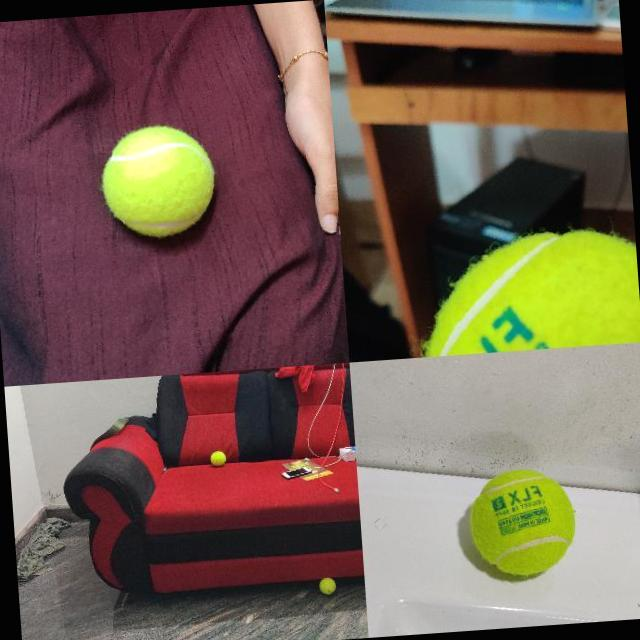Tennis Ball: (417, 225, 640, 356), (100, 124, 218, 238), (467, 466, 580, 580), (318, 576, 336, 594), (210, 449, 227, 466)
